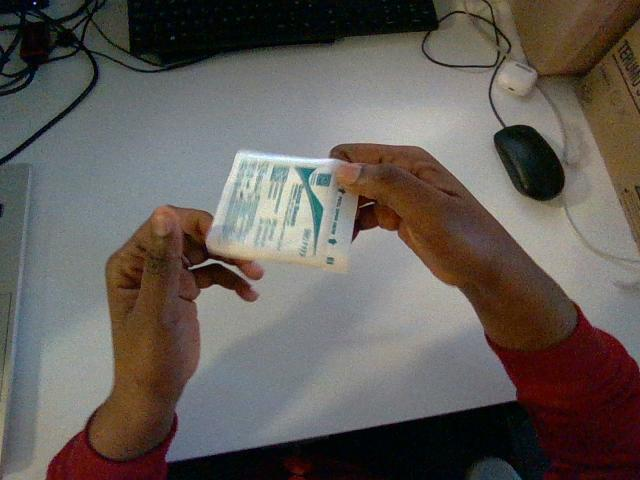gauze: (206, 151, 357, 272)
